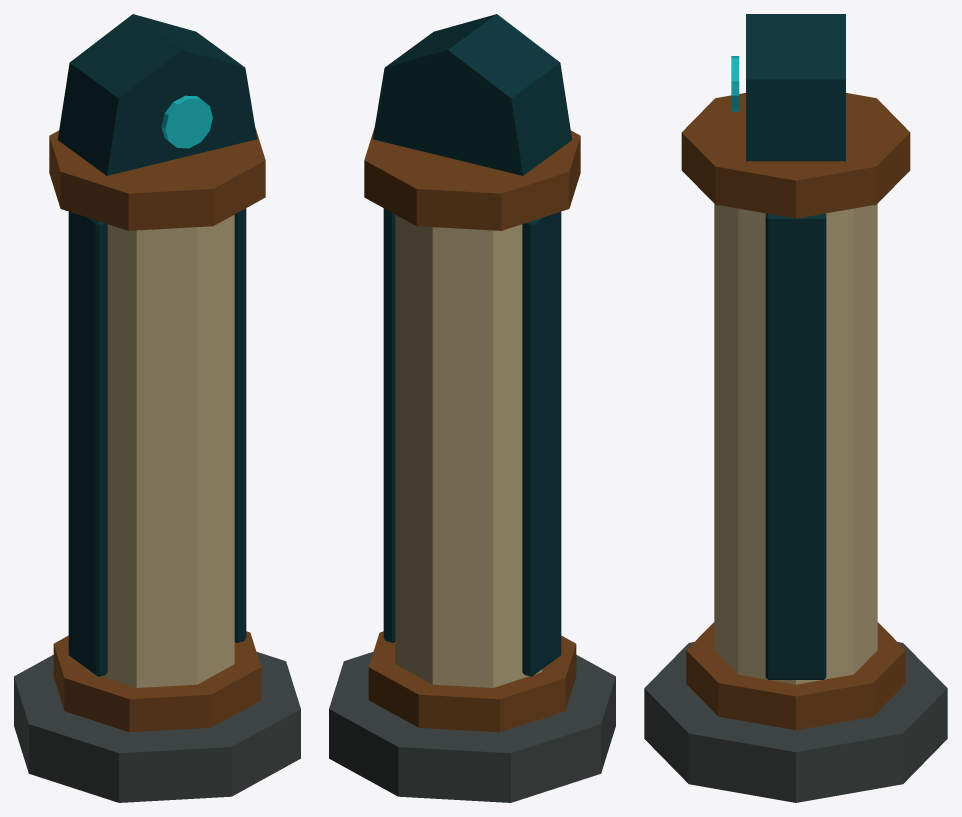
The model's file is relic-column.glb.
3 renders of one model, left to right at view 1: azimuth 30°, elevation 25°; view 2: azimuth 150°, elevation 25°; view 3: azimuth 270°, elevation 25°, orthographic. The views are drawn at different scales.
Visible parts, largest first — view 1: relic-column; view 2: relic-column; view 3: relic-column.
Part boxes in pixels (left/top/right/bottom): relic-column: left=14, top=14, right=300, bottom=802; relic-column: left=329, top=14, right=615, bottom=802; relic-column: left=644, top=14, right=947, bottom=802.
Size of the model in its own units: 1.3 by 3.43 by 1.3.
1 material, 1 textured.
